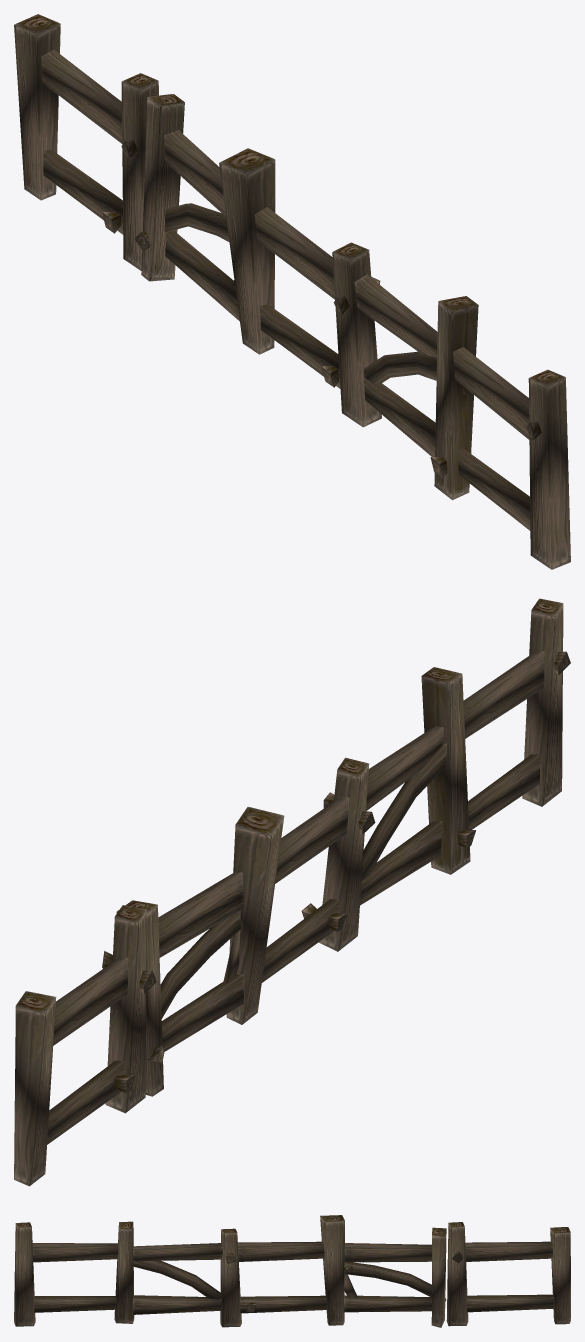
The model's file is worgen_townfence_03_battlegrounds.obj.
The picture shows the model from 3 angles, top to bottom: view 1: azimuth 30°, elevation 25°; view 2: azimuth 150°, elevation 25°; view 3: azimuth 270°, elevation 25°; orthographic projection. The views are drawn at different scales.
Visible parts, largest first — view 1: worgen_townfence_03_battlegrounds0; view 2: worgen_townfence_03_battlegrounds0; view 3: worgen_townfence_03_battlegrounds0.
Boxes of the visible parts, <box> form: worgen_townfence_03_battlegrounds0: <box>14,14,570,569</box>; worgen_townfence_03_battlegrounds0: <box>14,598,570,1186</box>; worgen_townfence_03_battlegrounds0: <box>14,1215,570,1327</box>.
Size of the model in its own units: 0.7924 by 2.8 by 13.55.
Materials: 1 (1 with a texture image).
